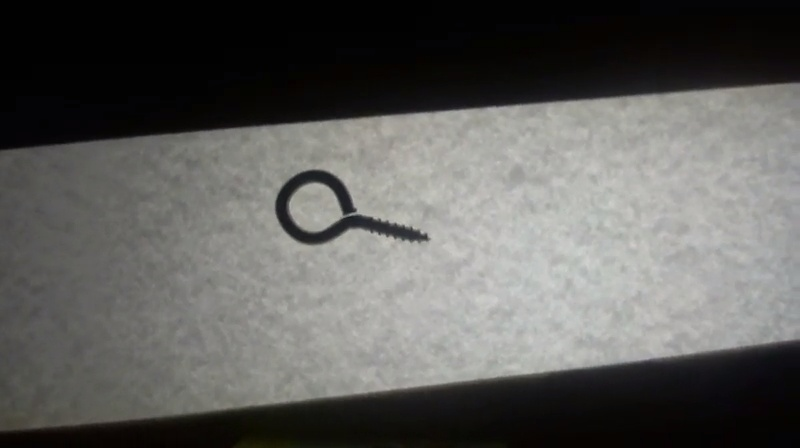O001: (271, 166, 432, 245)
